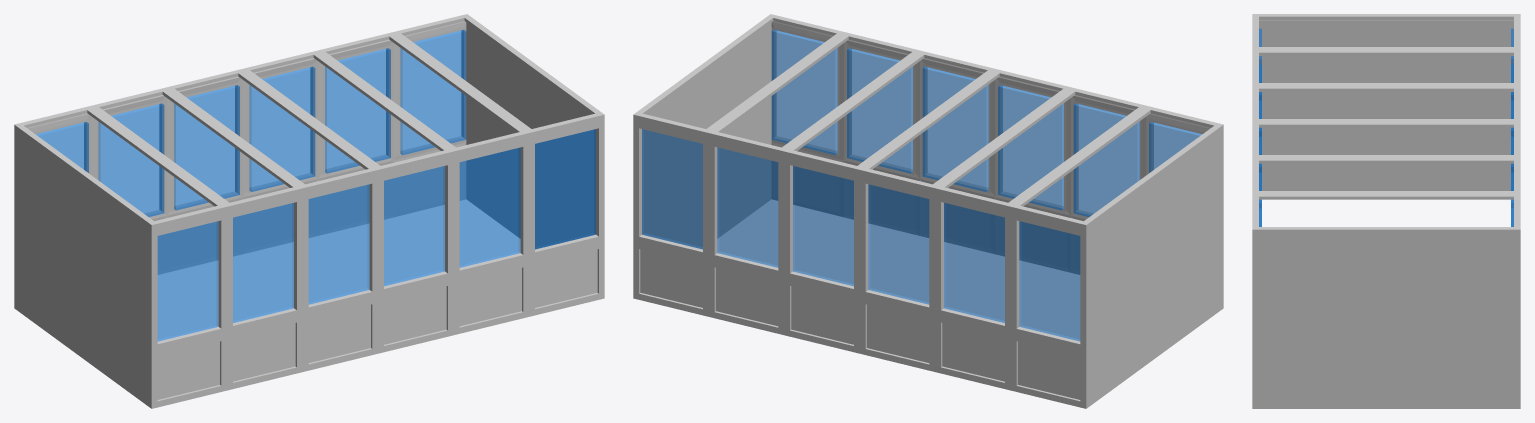
File: SmallCab.FBX
3 views of the same model, side by side, from view 1: azimuth 30°, elevation 25°; view 2: azimuth 150°, elevation 25°; view 3: azimuth 270°, elevation 25° (orthographic). The views are drawn at different scales.
Parts seen in each view (by area): view 1: SmallCab, SmallCabGlass; view 2: SmallCab, SmallCabGlass; view 3: SmallCab, SmallCabGlass.
Part boxes in pixels (left/top/right/bottom): SmallCab: left=14, top=14, right=604, bottom=408; SmallCabGlass: left=36, top=30, right=595, bottom=341; SmallCab: left=633, top=14, right=1223, bottom=408; SmallCabGlass: left=642, top=30, right=1201, bottom=341; SmallCab: left=1252, top=14, right=1520, bottom=408; SmallCabGlass: left=1259, top=28, right=1513, bottom=226.
Bounding box in the file's own units: 9285 × 4880 × 3600.
